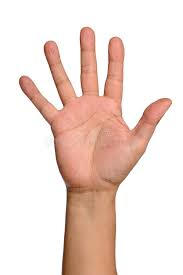palm: (15, 24, 175, 202)
